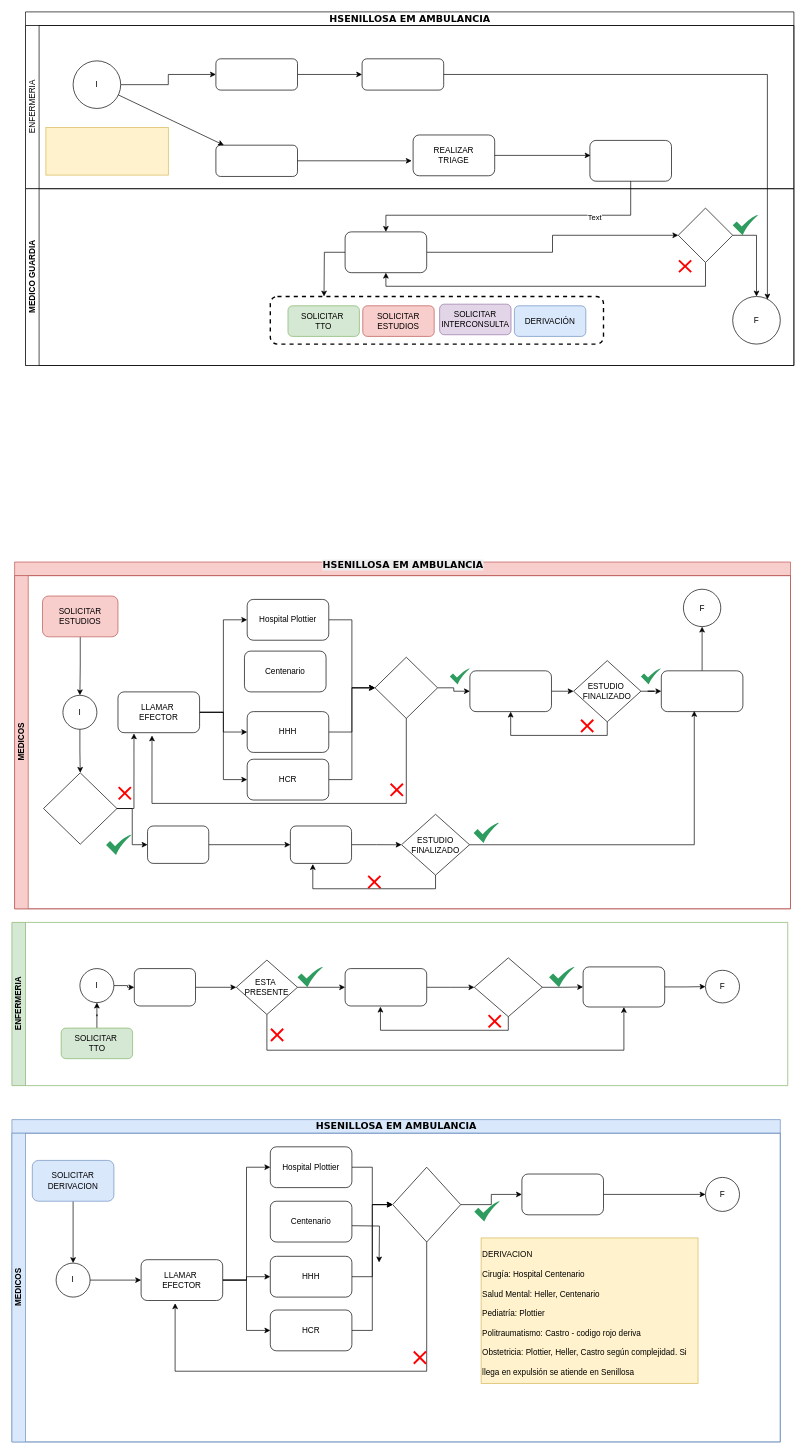
Some shapes in this 806 by 1454 pixel diagram are drawn without their labels. The centre of each missing label's shape, as x and y in pixels:
"ATENDER PACIENTE" belongs at pixel 385 252.
"AVISAR AL MEDICO" belongs at pixel 623 986.
"AVISO MEDICO" belongs at pixel 702 691.
"ENVIO AMBULANCIA DEL HOSPITAL" belongs at pixel 402 74.
"ESPERAR ESTUDIO" belongs at pixel 321 844.
"FIN ATENCION" belongs at pixel 705 234.
"La ambulancia busca lo pacientes" belongs at pixel 106 151.
"LLAMAR PACIENTE" belongs at pixel 165 987.
"NOTIFICAR MÉDICO" belongs at pixel 630 160.
"OBTENER EFECTOR PARA DERIVAR" belongs at pixel 426 1204.
"OBTENGO EFECTOR" belongs at pixel 406 687.
"PEDIDO DE AMBULANCIA" belongs at pixel 256 74.
"REALIZAR TTO" belongs at pixel 385 987.
"REALIZO ESTUDIO" belongs at pixel 510 691.
"RECIBIR PACIENTE POR AMBULANCIA" belongs at pixel 256 160.
"SE PUEDE HACER EN SENILLOSA" belongs at pixel 80 808.
"SOLICITAR ESTUDIO" belongs at pixel 178 844.
"TRASLADO PACIENTE" belongs at pixel 562 1194.
"TTO FINALIZADO" belongs at pixel 508 987.
